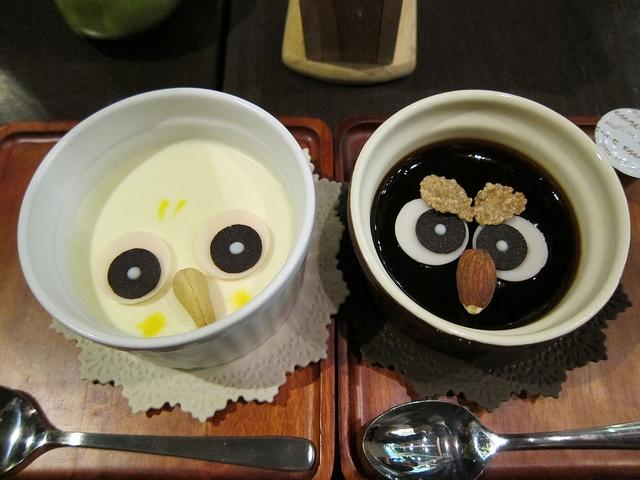almond: (456, 248, 496, 314)
